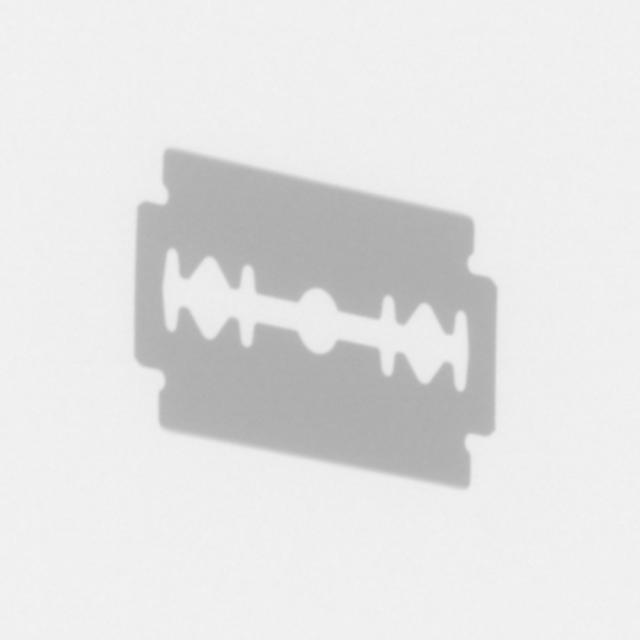razor: (131, 136, 504, 494)
